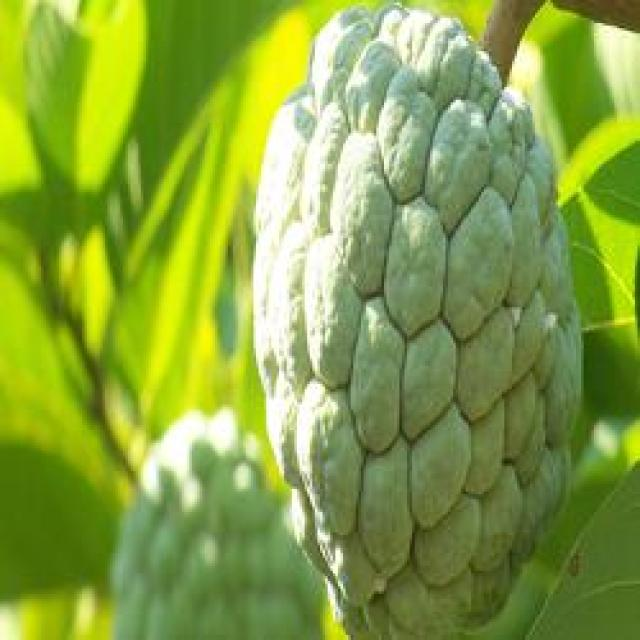apple: (241, 5, 588, 635)
